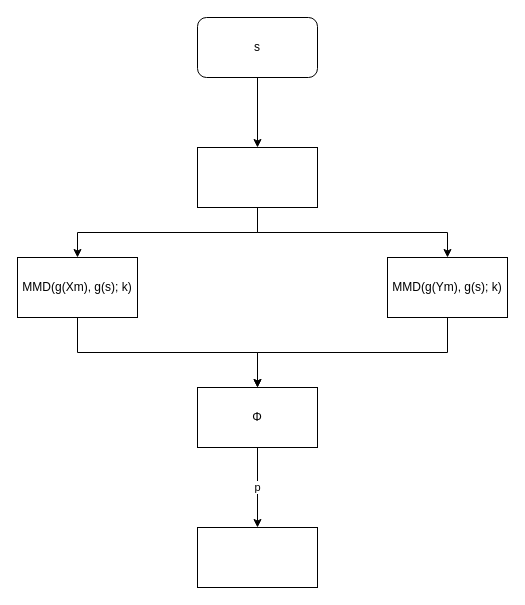
Some shapes in this 525 by 605 pixel diagram are drawn without their labels. The shapes that lost their labels are listed below. From the top down, each one's centre as x and y in pixels, then its label:
[257,177]: g(s)
[257,557]: f(s;p;a)
